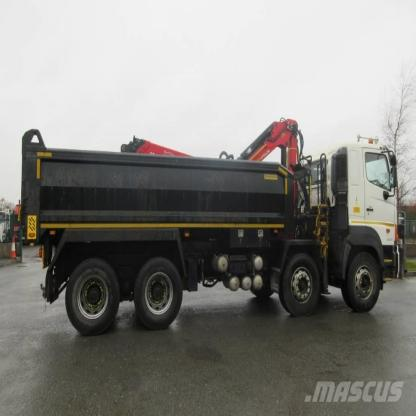dump_truck: (21, 104, 405, 340)
